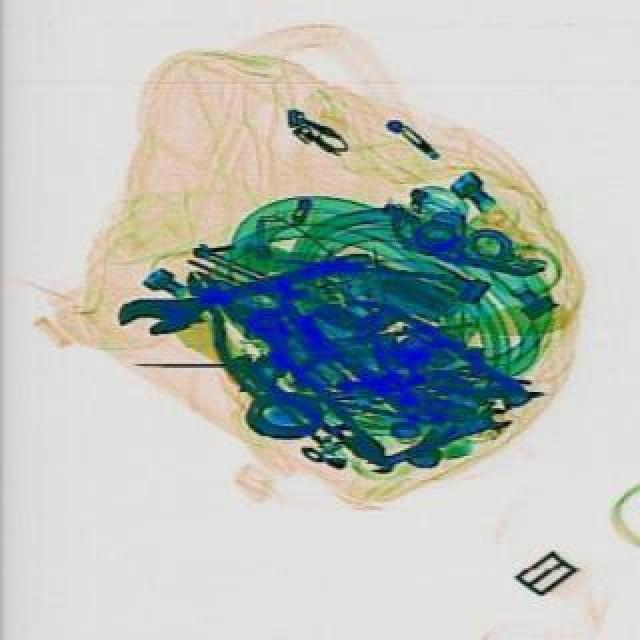scissors: (110, 234, 374, 346), (360, 402, 510, 474)
wrench: (162, 250, 310, 414), (248, 344, 398, 480)
